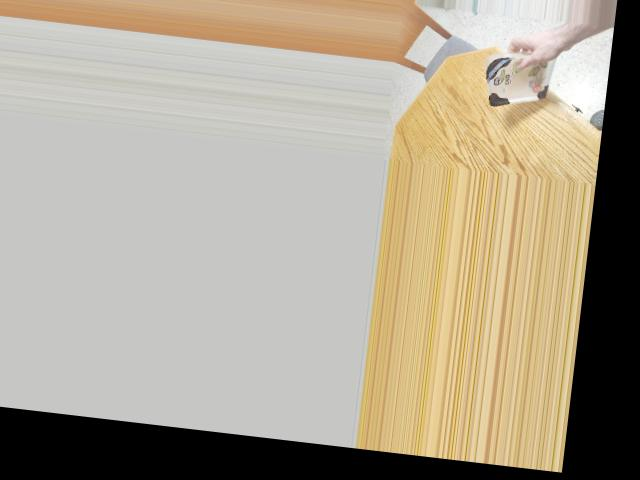cheese: (478, 48, 564, 109)
